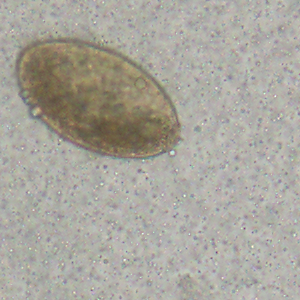Fasciola_hepatica_egg: (15, 37, 179, 160)
